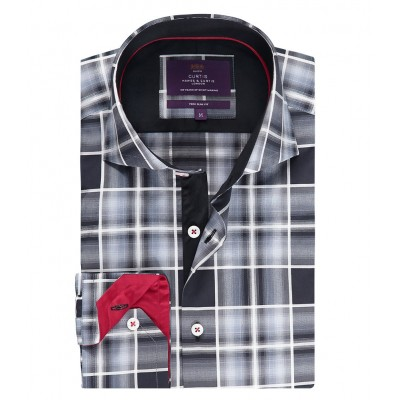squared: (83, 18, 310, 386)
